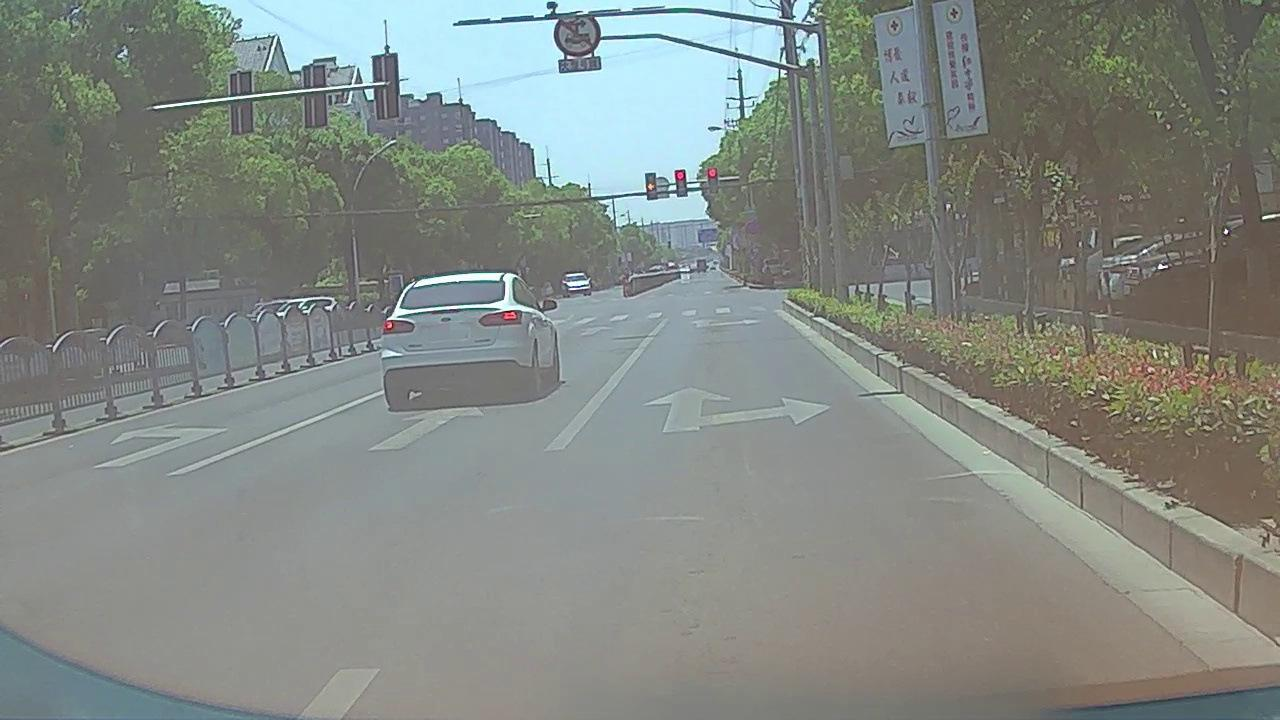traffic_light: (674, 169, 687, 197), (645, 173, 657, 200), (708, 167, 718, 193)
